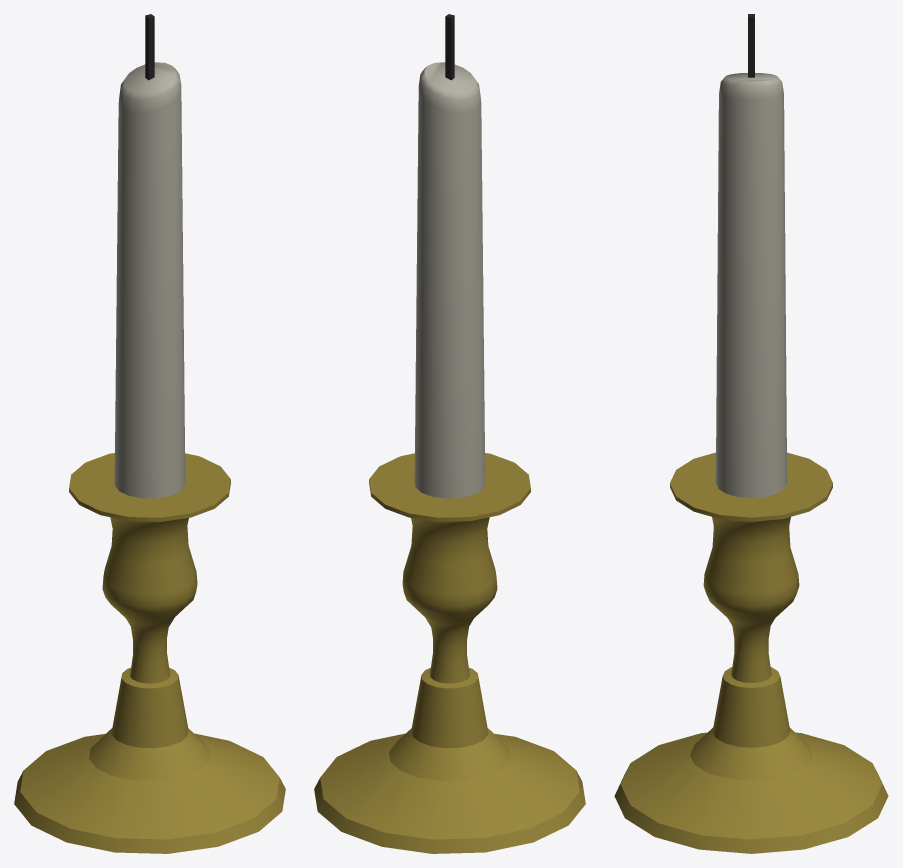
Rendered from candle_holder_01.fbx.
The picture shows the model from 3 angles, left to right: view 1: azimuth 30°, elevation 25°; view 2: azimuth 150°, elevation 25°; view 3: azimuth 270°, elevation 25°; orthographic projection.
Parts seen in each view (by area): view 1: candle_holder_01; view 2: candle_holder_01; view 3: candle_holder_01.
Part boxes in pixels (x1,y1,x2,y2): candle_holder_01: (14, 14, 285, 853); candle_holder_01: (314, 14, 585, 853); candle_holder_01: (614, 14, 888, 853).
Bounding box in the file's own units: 0.0555 × 0.0555 × 0.1743.
